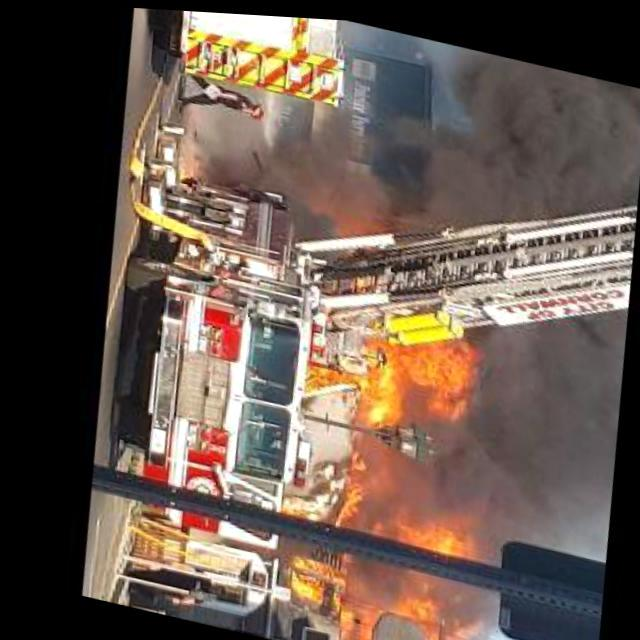fire: (250, 276, 522, 640), (172, 84, 424, 234)
